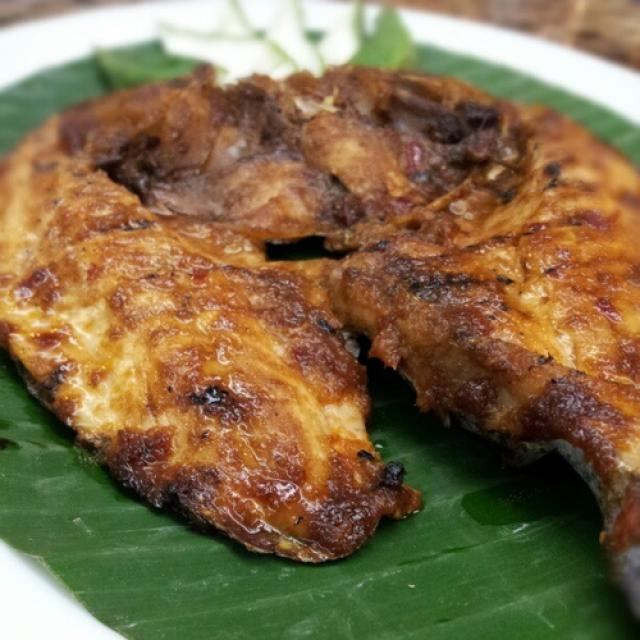鸡肉料理 含炸鸡: (8, 37, 623, 618)
